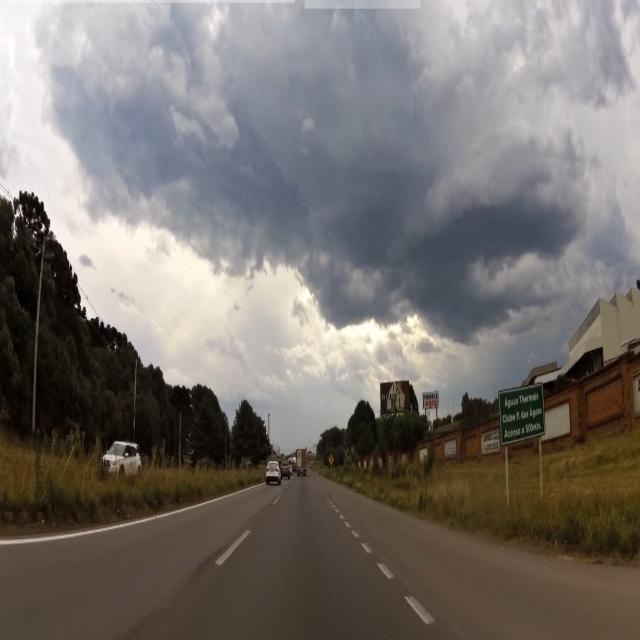I-4: (498, 381, 547, 438)
